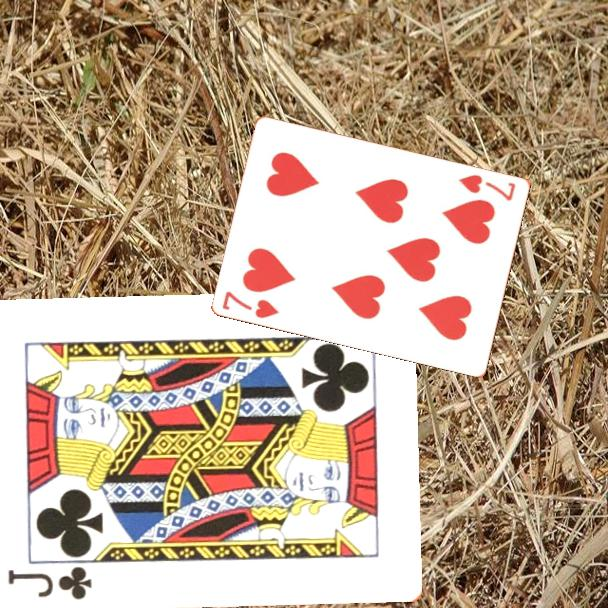c11: (4, 564, 94, 603)
h07: (219, 287, 282, 321), (455, 171, 519, 204)
